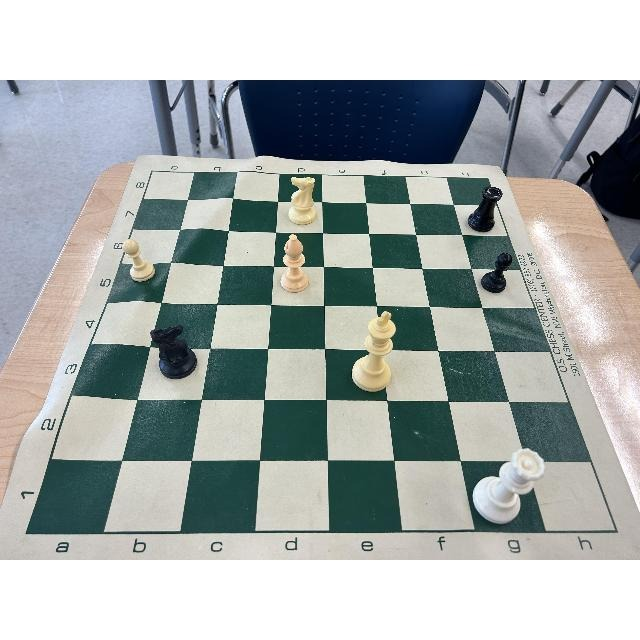black-knight: (150, 324, 198, 379)
black-pawn: (480, 250, 514, 294)
black-rook: (467, 184, 502, 233)
white-bishop: (279, 232, 310, 293)
white-king: (349, 310, 396, 392)
white-knight: (287, 176, 317, 226)
white-pawn: (122, 238, 156, 284)
white-queen: (473, 447, 546, 524)
